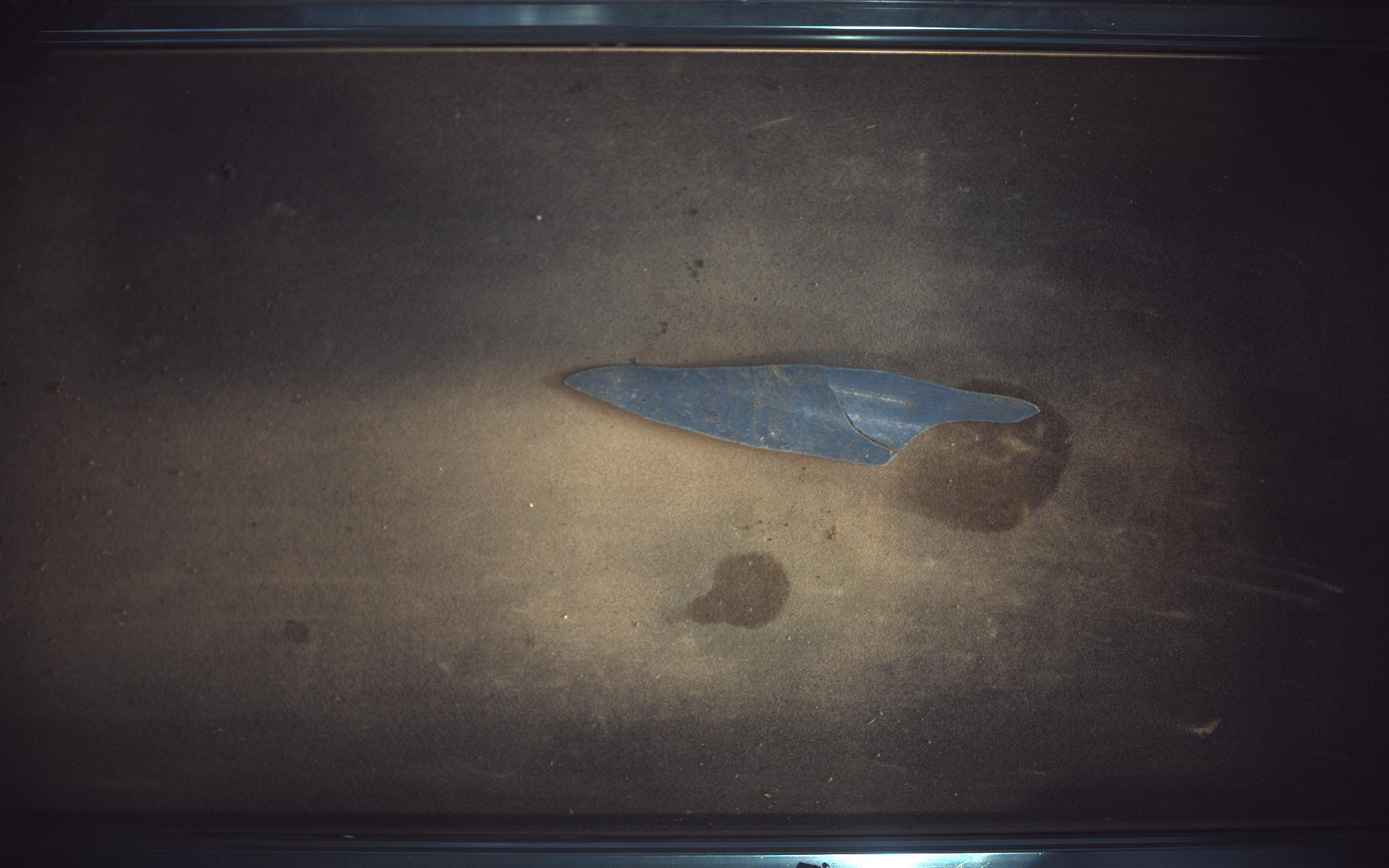plastic: (566, 365, 1042, 466)
